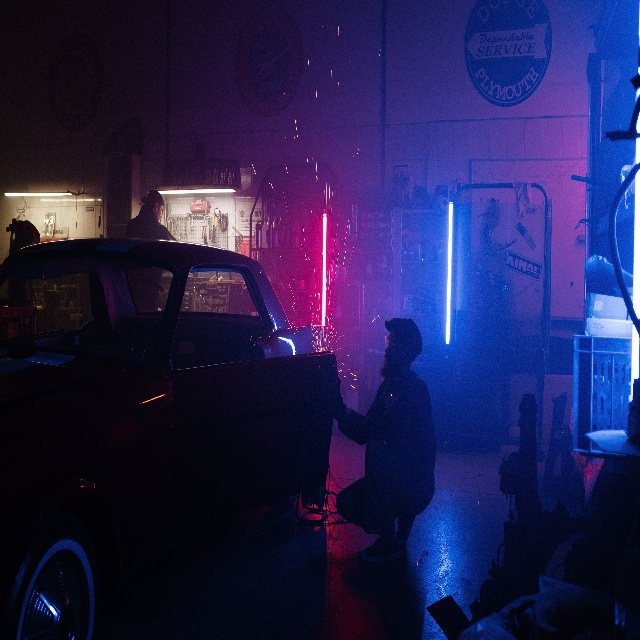Gafas: (384, 334, 393, 347)
